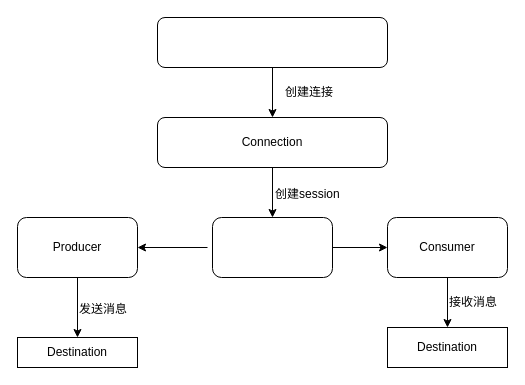
The diagram is 525 pixels wide and 385 high, and some of its shapes have lost their labels. Each missing label, with the centre of its shape:
"ConnectionFactory" goes at (272,42).
"session" goes at (272,247).
